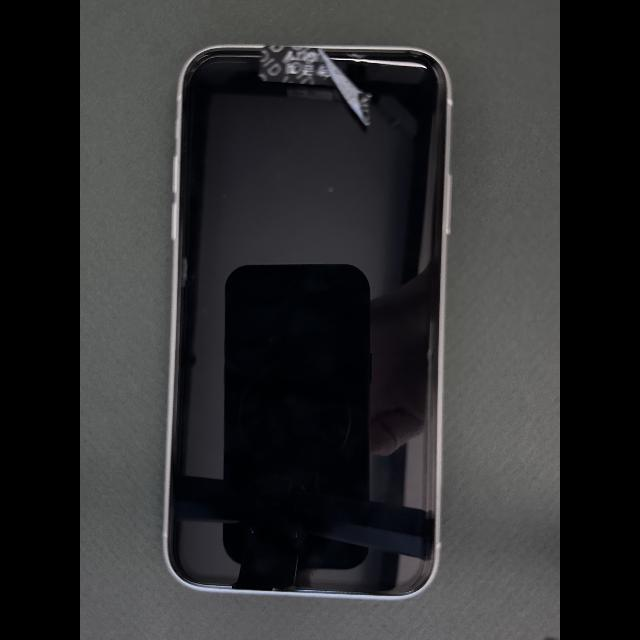phone: (163, 45, 452, 600)
sticker: (259, 45, 372, 126)
